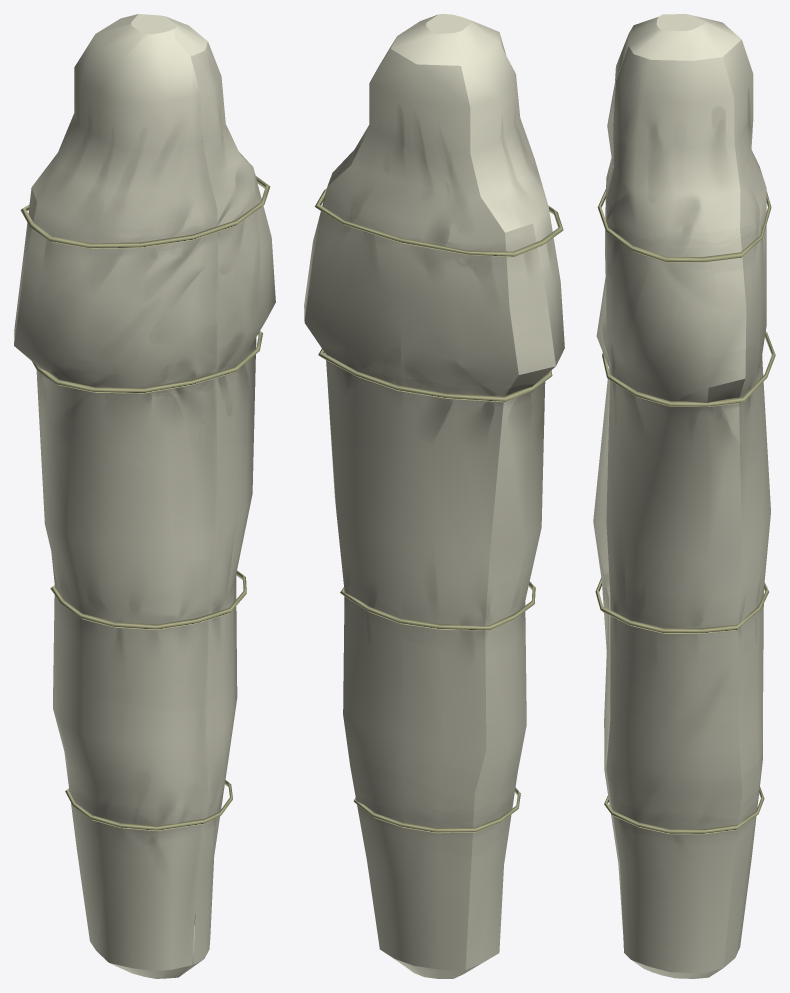
Rendered from Kainkafan.fbx.
3 views of the same model, side by side, from view 1: azimuth 30°, elevation 25°; view 2: azimuth 150°, elevation 25°; view 3: azimuth 270°, elevation 25° (orthographic).
Parts seen in each view (by area): view 1: Plane001, Torus004, Torus001, Torus002, Torus003; view 2: Plane001, Torus004, Torus001, Torus002, Torus003; view 3: Plane001, Torus004, Torus001, Torus002, Torus003.
Part boxes in pixels (x1,y1,x2,y2): Plane001: (14,14,275,978); Torus004: (20,176,270,248); Torus001: (32,331,262,393); Torus002: (50,570,246,630); Torus003: (65,780,232,831); Plane001: (304,14,564,978); Torus004: (314,188,563,256); Torus001: (318,349,552,402); Torus002: (340,581,535,630); Torus003: (353,787,520,833); Plane001: (593,14,770,978); Torus004: (597,189,771,262); Torus001: (602,331,775,406); Torus002: (595,578,768,633); Torus003: (604,787,764,834).
Size of the model in its own units: 460 by 1638 by 288.
2 materials, 1 textured.
